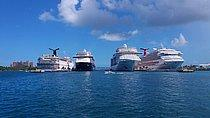Ship: (139, 46, 189, 76), (108, 42, 147, 76)
